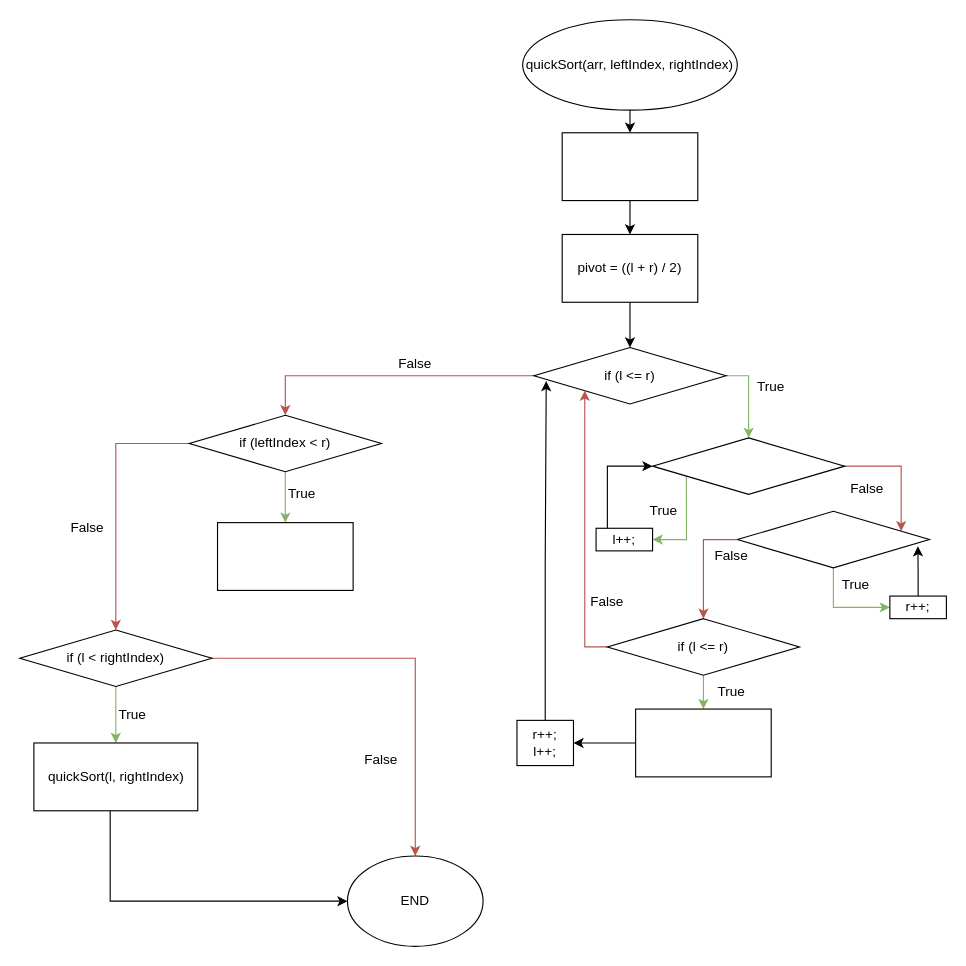
Image size: 966x966. Some labels were removed from this diagram. The centre of each missing label's shape, as x and y in pixels:
"arr[l] < pivot" goes at (748,465).
"arr[r] > pivot" goes at (832,539).
"let l = leftIndex let r = rightIndex" goes at (629,166).
"let tmp = arr[l] arr[l] = arr[r] arr[r] = tmp" goes at (702,742).
"quickSort(leftIndex, r)" goes at (284,555).
